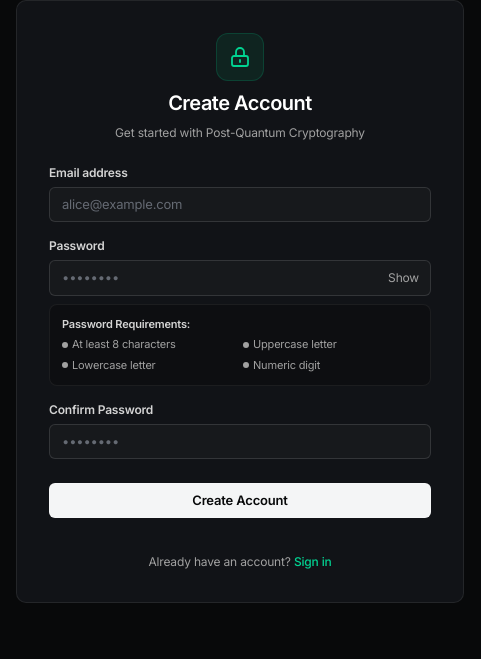
Test case: RegisterForm Component › validates password complexity
Type "test@example.com" into the field labelled "Email address".
click(240, 205); type("test@example.com")  # box [49,187,431,222]
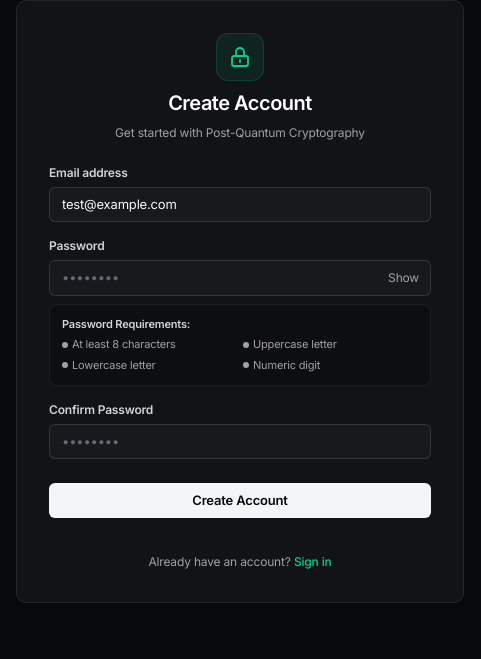
Type "simple" into the password field labelled "Password".
click(240, 278); type("simple")  # box [49,260,431,296]
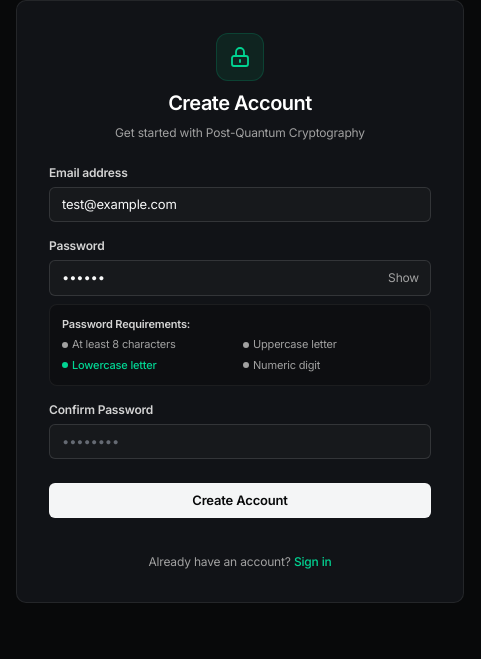
Type "simple" into the password field labelled "Confirm Password".
click(240, 441); type("simple")  # box [49,424,431,459]
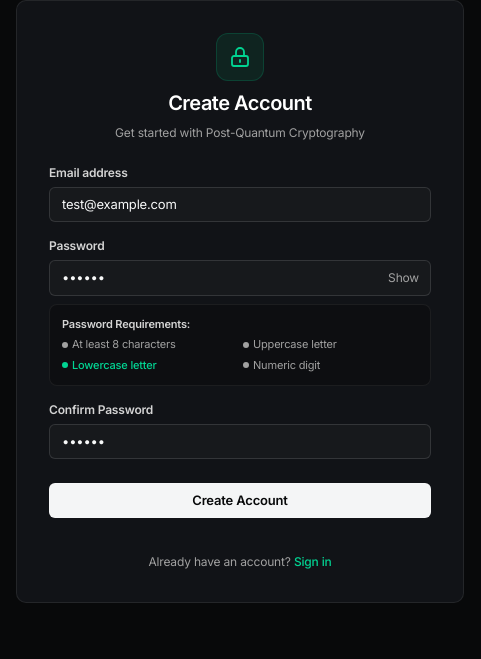
Click the button "Create Account".
click(240, 501)  # box [49,483,431,518]
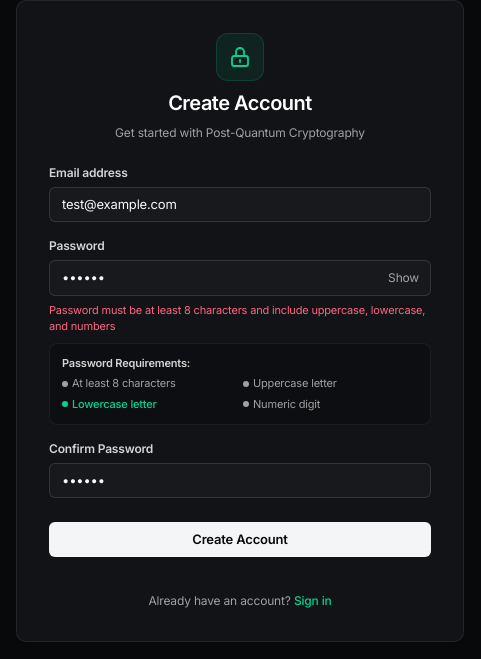
Check: the text "Password must be at least 8 characters" is shown, box [49,303,425,333]
